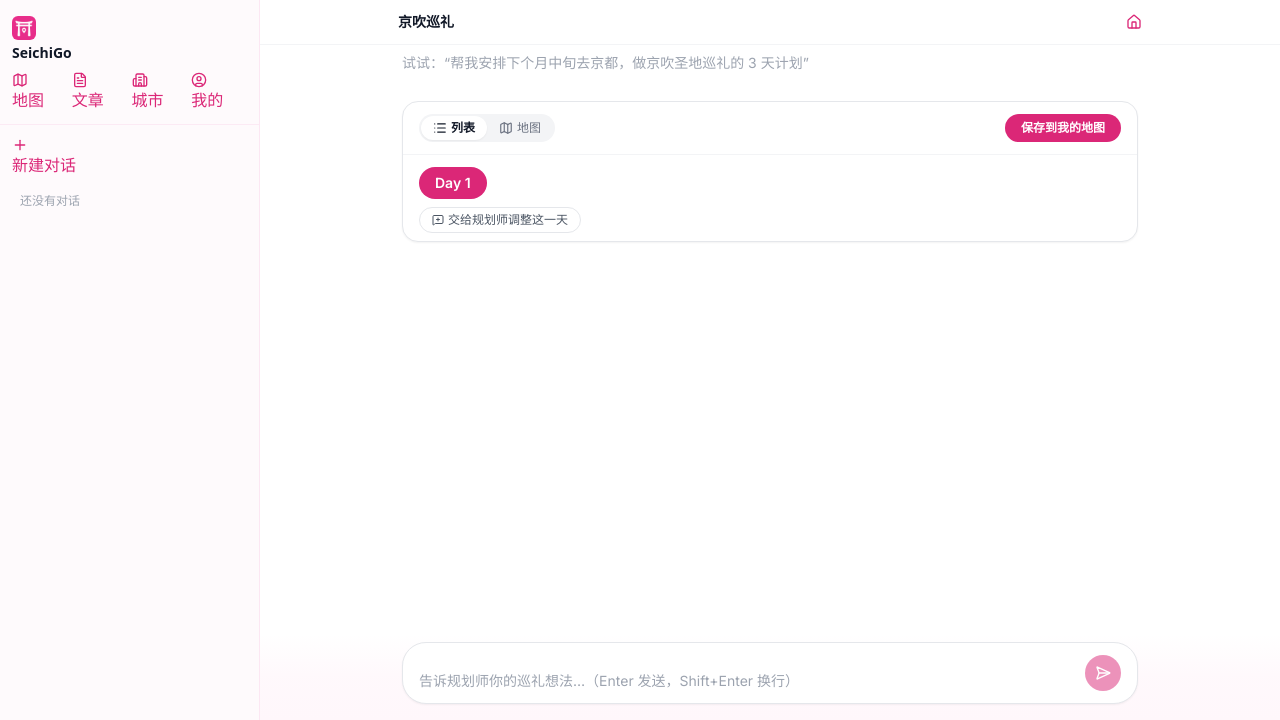
PlanPlanner 实时 SSE 路径 › 实时 ask 事件携带 taskType=opinion：渲染文本意见卡而非作品封面卡
In the text box with placeholder "告诉规划师你的巡礼想法…（Enter 发送，Shift+Enter 换行）": (748, 681) left=419, top=671, right=1077, bottom=691, type "帮我规划"
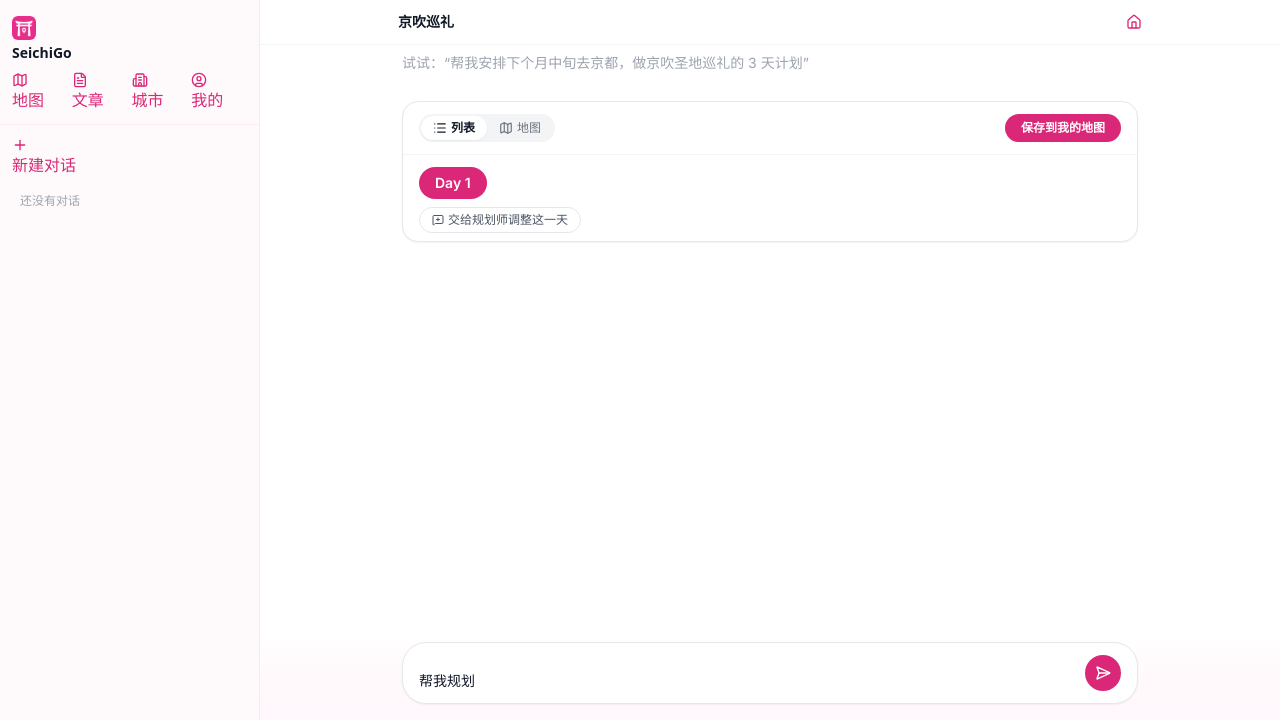
Click the button named "发送": (1103, 673) left=1085, top=655, right=1121, bottom=691
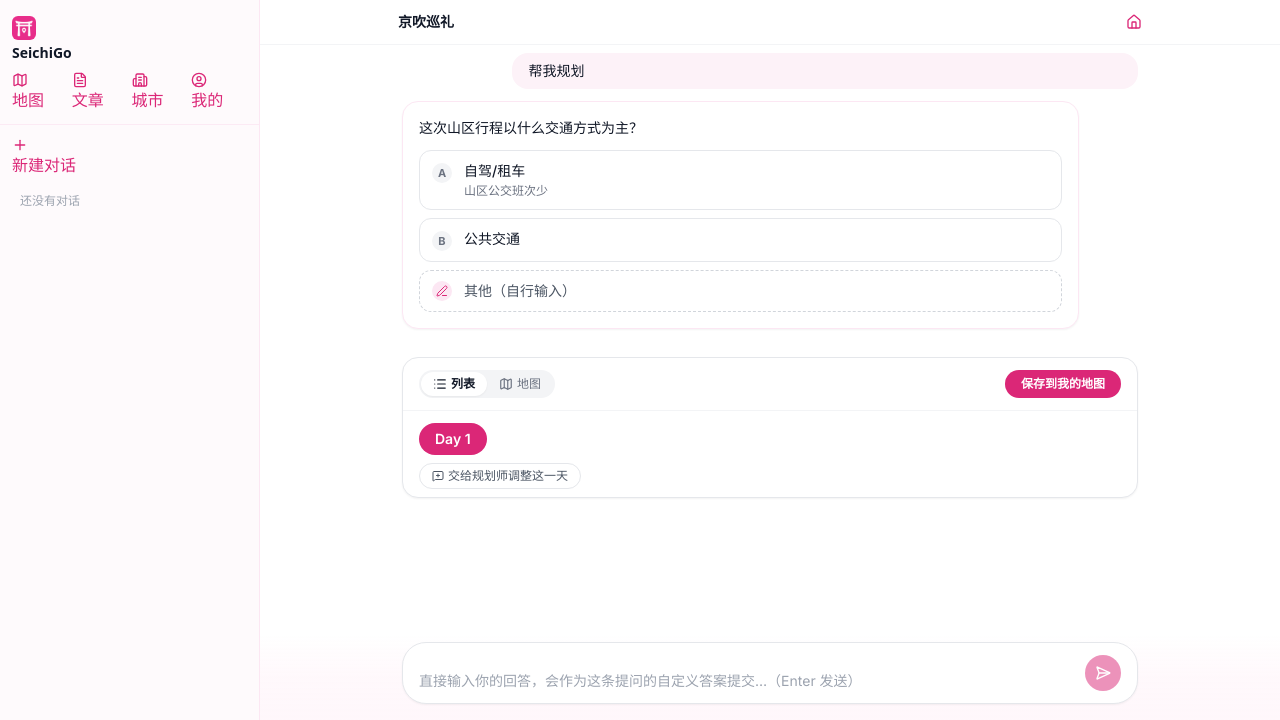
Expected: the text "自驾/租车" is shown, left=464, top=162, right=525, bottom=179
Expected: the text "公共交通" is shown, left=464, top=230, right=520, bottom=247
Expected: the button "其他（自行输入）" is shown, left=419, top=270, right=1062, bottom=312
